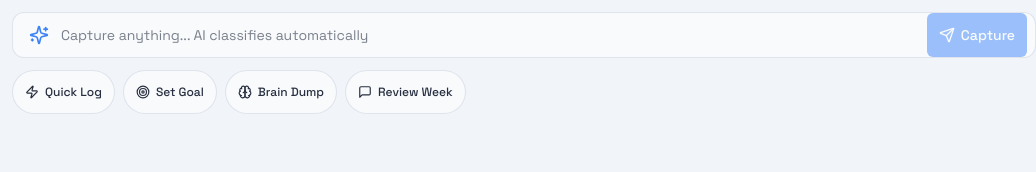
Test case: SmartCapture › should set input prefix when clicking quick action
The image size is (1036, 172).
Click the button "Set Goal" at (170, 92), box [123,70,217,114]
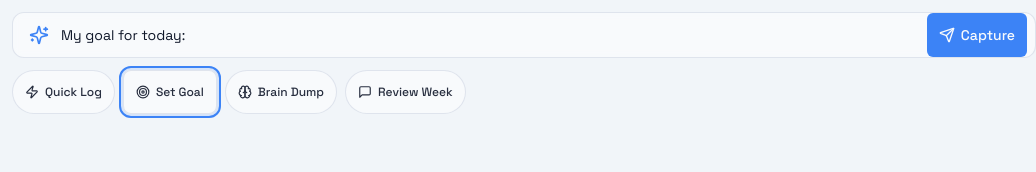
Check: the field with placeholder "Capture anything... AI classifies automatically" holds "My goal for today: ", box [49,15,927,55]
